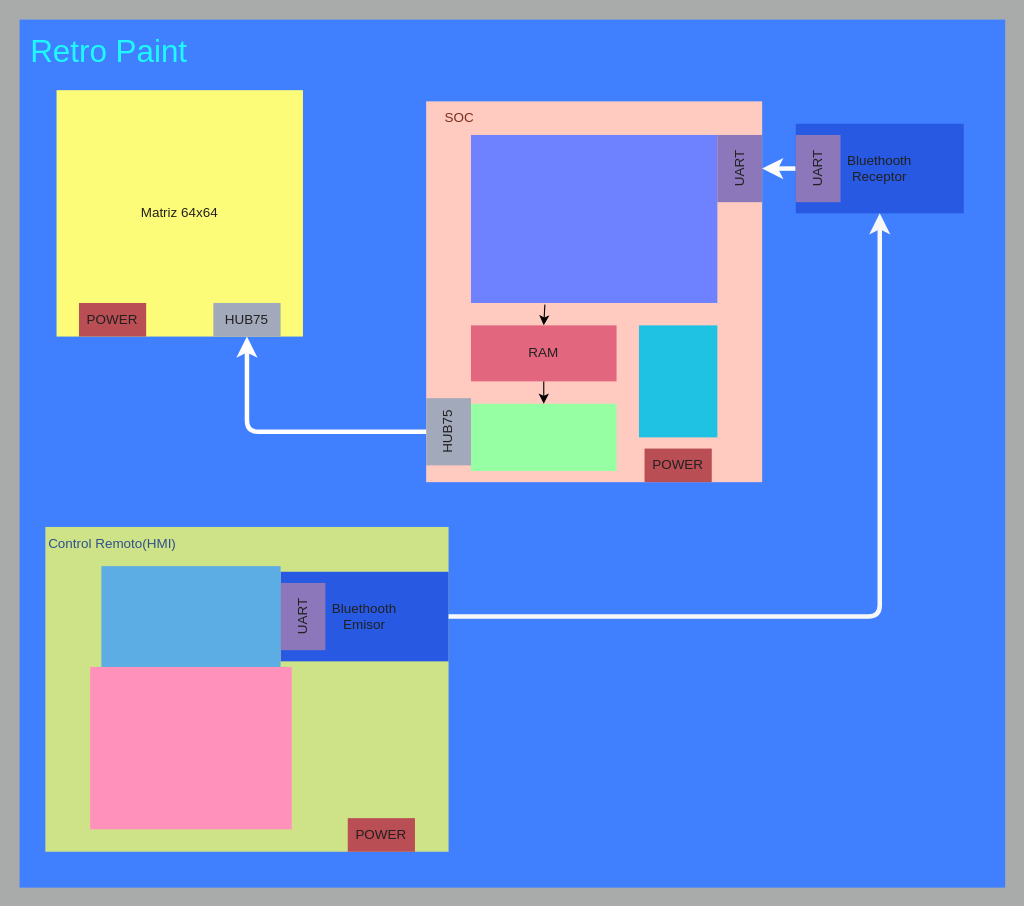
Image size: 1024x906. Some labels were removed from this diagram. Each missing label, with the centre of its shape:
"GPU": point (543, 436)
Arduino: point (190, 616)
CPU(running Retro Paint): point (593, 218)
SPI: point (677, 381)
Teclado 4x4: point (190, 747)
